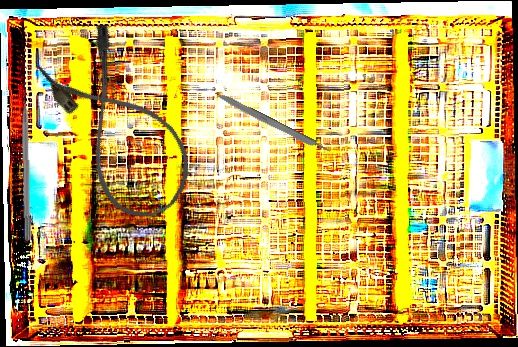Cannula: (30, 18, 208, 233)
Pusher: (21, 79, 33, 242)
Scalpel Handle: (212, 89, 333, 158)
